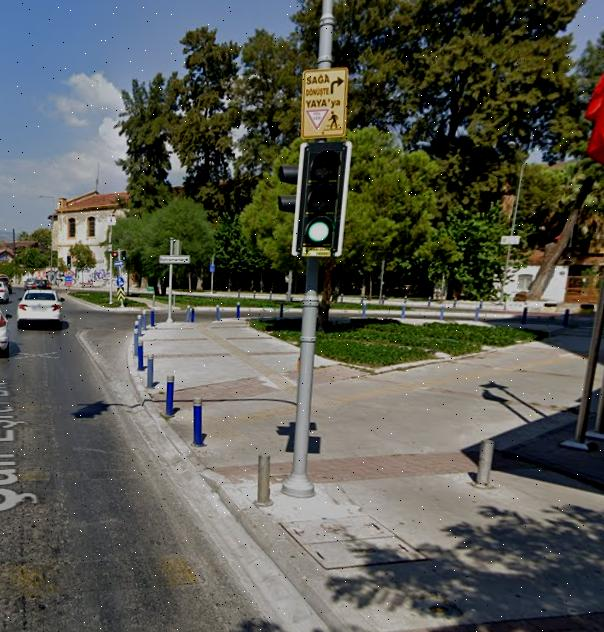greenlight: (298, 143, 344, 253)
